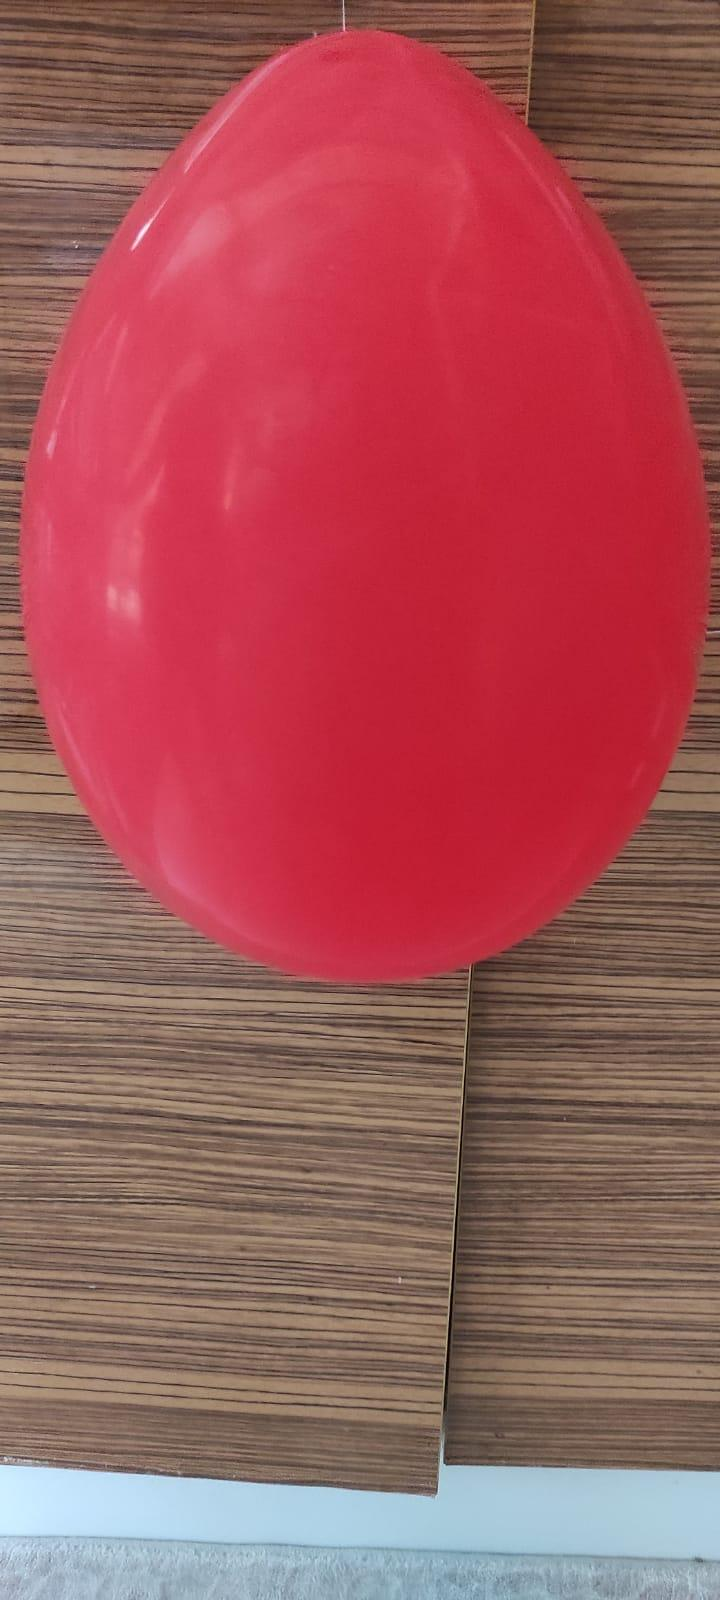red: (17, 31, 715, 982)
